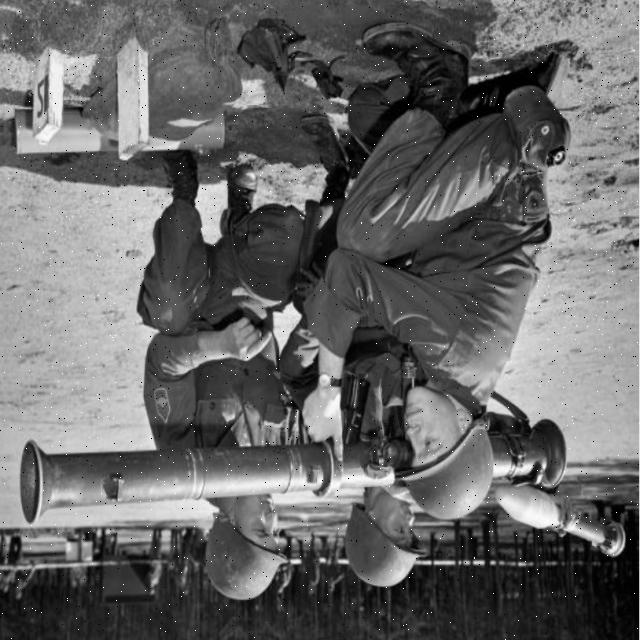bazooka: (16, 414, 577, 544)
